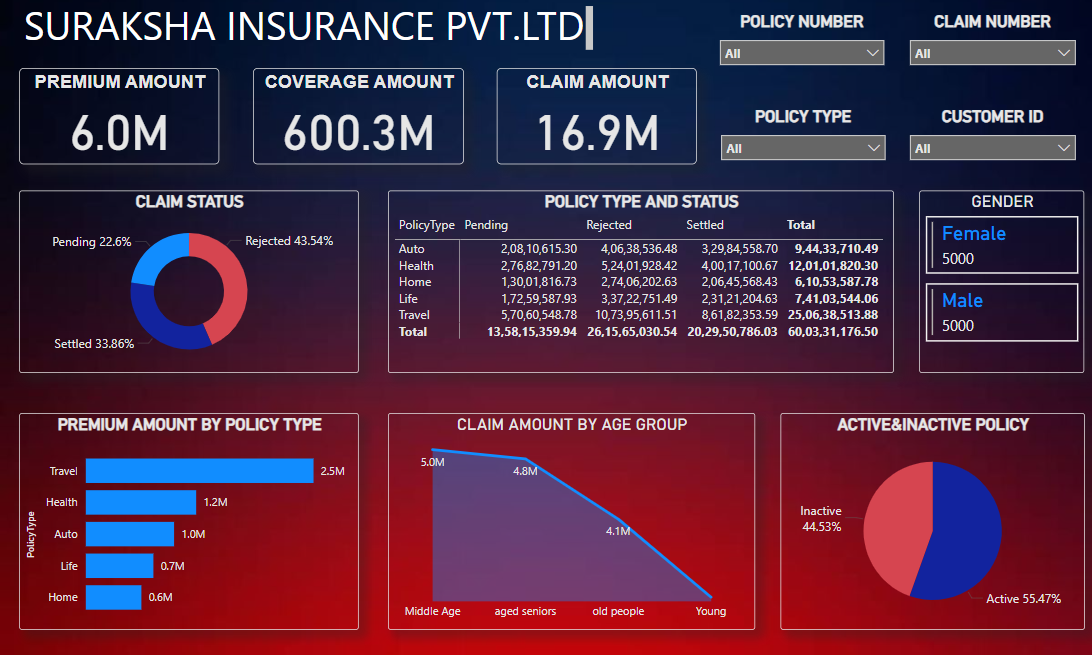

This screenshot's page, from the dashboard's own definition file:
{"tool":"powerbi","page":{"name":"Insurance","canvas":[1280,720],"ordinal":0},"visuals":[{"type":"slicer","title":"POLICY NUMBER","fields":{"Values":["InsuranceData (1).PolicyNumber"]},"box":[819.2,15.1,200.3,63.1],"z":0},{"type":"textbox","box":[61.1,0,633.8,62.2],"z":1000},{"type":"slicer","title":"CLAIM NUMBER","fields":{"Values":["InsuranceData (1).ClaimNumber"]},"box":[1027.8,15.1,201.7,63.1],"z":2000},{"type":"slicer","title":"CUSTOMER ID","fields":{"Values":["InsuranceData (1).CustomerID"]},"box":[1027.8,119.4,201.7,63.1],"z":3000},{"type":"card","title":"PREMIUM AMOUNT","fields":{"Values":["Sum(InsuranceData (1).PremiumAmount)"]},"box":[61.1,77,218.9,105.4],"z":4000},{"type":"card","title":"COVERAGE AMOUNT","fields":{"Values":["Sum(InsuranceData (1).CoverageAmount)"]},"box":[317.8,77,231.1,105.4],"z":5000},{"type":"card","title":"CLAIM AMOUNT","fields":{"Values":["Sum(InsuranceData (1).ClaimAmount)"]},"box":[585.4,77,218.9,105.4],"z":6000},{"type":"multiRowCard","title":"GENDER","fields":{"Values":["InsuranceData (1).Gender","CountNonNull(InsuranceData (1).Gender)"]},"box":[1048.4,211.3,181.1,200.3],"z":7000},{"type":"donutChart","title":"CLAIM STATUS","fields":{"Category":["InsuranceData (1).ClaimStatus"],"Y":["CountNonNull(InsuranceData (1).ClaimStatus)"]},"box":[61.7,211.3,371.9,200.3],"z":8000},{"type":"clusteredBarChart","title":"PREMIUM AMOUNT BY POLICY TYPE","fields":{"Category":["InsuranceData (1).PolicyType"],"Y":["Sum(InsuranceData (1).PremiumAmount)"]},"box":[61.7,454.2,371.9,237.4],"z":9000},{"type":"pivotTable","title":"POLICY TYPE AND STATUS","fields":{"Values":["Sum(InsuranceData (1).CoverageAmount)"],"Rows":["InsuranceData (1).PolicyType"],"Columns":["InsuranceData (1).ClaimStatus"]},"box":[465.2,211.3,554.4,200.3],"z":10000},{"type":"slicer","title":"POLICY TYPE","fields":{"Values":["InsuranceData (1).PolicyType"]},"box":[820.6,119.4,200.3,63.1],"z":11000},{"type":"stackedAreaChart","title":"CLAIM AMOUNT BY AGE GROUP","fields":{"Category":["InsuranceData (1).Age  Group"],"Y":["Sum(InsuranceData (1).ClaimAmount)"]},"box":[465.2,454.2,402.1,237.4],"z":12000},{"type":"pieChart","title":"ACTIVE&INACTIVE POLICY","fields":{"Y":["CountNonNull(InsuranceData (1).Active/Inactive)"],"Category":["InsuranceData (1).Active/Inactive"]},"box":[896.1,454.2,333.4,237.4],"z":13000}]}

Visuals, with their boxes on the page's 1280x720 design canvas (x1, y1, x2, y2). These are canvas units, not pixel positions in the 1092x655 screenshot, which may show the page scaled, cropped or inside an application window:
"POLICY NUMBER" slicer: Rect(819, 15, 1020, 78)
textbox: Rect(61, 0, 695, 62)
"CLAIM NUMBER" slicer: Rect(1028, 15, 1230, 78)
"CUSTOMER ID" slicer: Rect(1028, 119, 1230, 182)
"PREMIUM AMOUNT" card: Rect(61, 77, 280, 182)
"COVERAGE AMOUNT" card: Rect(318, 77, 549, 182)
"CLAIM AMOUNT" card: Rect(585, 77, 804, 182)
"GENDER" multiRowCard: Rect(1048, 211, 1230, 412)
"CLAIM STATUS" donutChart: Rect(62, 211, 434, 412)
"PREMIUM AMOUNT BY POLICY TYPE" clusteredBarChart: Rect(62, 454, 434, 692)
"POLICY TYPE AND STATUS" pivotTable: Rect(465, 211, 1020, 412)
"POLICY TYPE" slicer: Rect(821, 119, 1021, 182)
"CLAIM AMOUNT BY AGE GROUP" stackedAreaChart: Rect(465, 454, 867, 692)
"ACTIVE&INACTIVE POLICY" pieChart: Rect(896, 454, 1230, 692)
